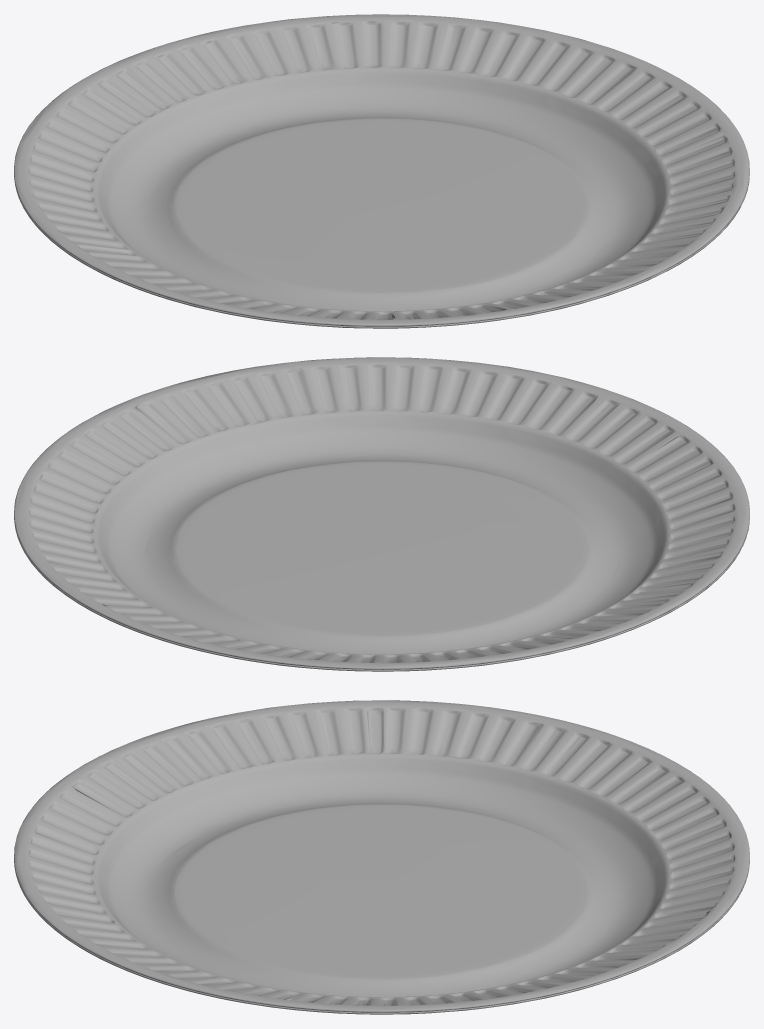
File: plate.gltf
3 views of the same model, one above another, from view 1: azimuth 30°, elevation 25°; view 2: azimuth 150°, elevation 25°; view 3: azimuth 270°, elevation 25° (orthographic).
Parts seen in each view (by area): view 1: outside, downside; view 2: outside, downside; view 3: outside, downside.
Boxes of the visible parts, box(x1,y1,x2,y2) form: outside: box(14, 14, 749, 326); downside: box(14, 174, 749, 328); outside: box(14, 357, 749, 669); downside: box(14, 518, 749, 671); outside: box(14, 700, 749, 1012); downside: box(14, 861, 749, 1014).
Size of the model in its own units: 3.73 by 0.2604 by 3.73.
2 materials, 2 textured.
